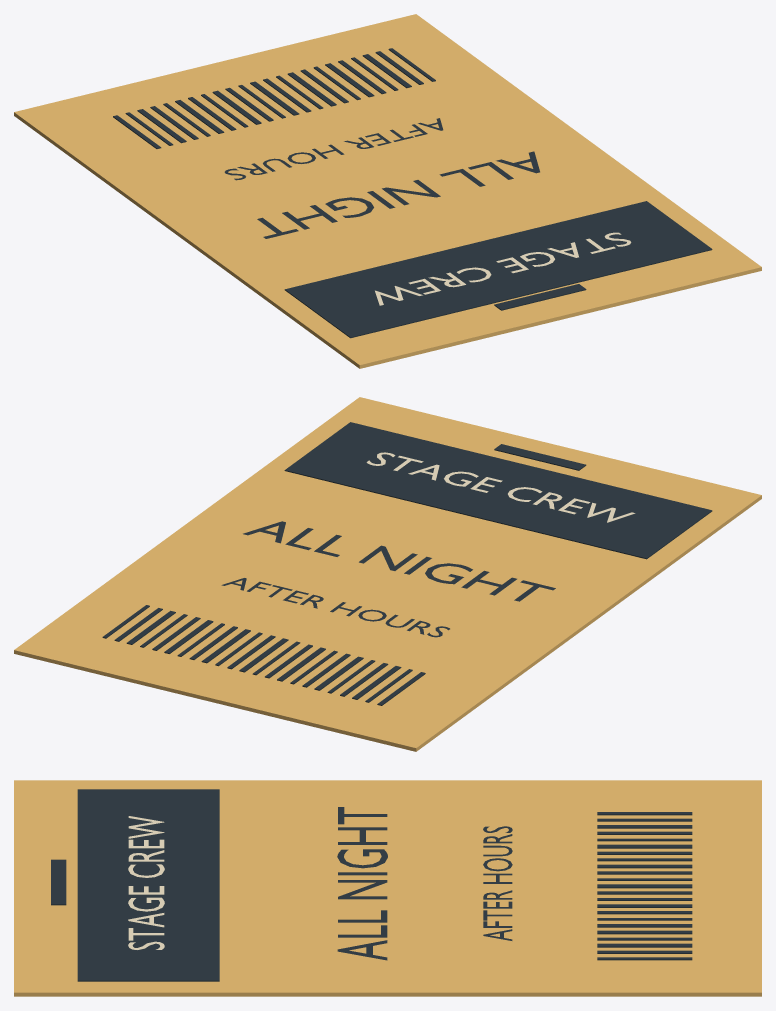
Rendered from AH03_StagePass.fbx.
3 renders of one model, top to bottom at view 1: azimuth 30°, elevation 25°; view 2: azimuth 150°, elevation 25°; view 3: azimuth 270°, elevation 25°, orthographic. The views are drawn at different scales.
Visible parts, largest first — view 1: AH03_StagePass_AH03_Gold, AH03_StagePass_AH03_Dark, AH03_StagePass_AH03_Cream; view 2: AH03_StagePass_AH03_Gold, AH03_StagePass_AH03_Dark, AH03_StagePass_AH03_Cream; view 3: AH03_StagePass_AH03_Gold, AH03_StagePass_AH03_Dark, AH03_StagePass_AH03_Cream.
Part boxes in pixels (x1,y1,x2,y2): AH03_StagePass_AH03_Gold: (14,14,761,368); AH03_StagePass_AH03_Dark: (113,48,712,338); AH03_StagePass_AH03_Cream: (375,232,631,305); AH03_StagePass_AH03_Gold: (14,397,761,751); AH03_StagePass_AH03_Dark: (102,422,712,705); AH03_StagePass_AH03_Cream: (366,452,635,522); AH03_StagePass_AH03_Gold: (14,780,761,996); AH03_StagePass_AH03_Dark: (51,789,692,981); AH03_StagePass_AH03_Cream: (128,816,164,949).
Size of the model in its own units: 45 by 0.85 by 67.
